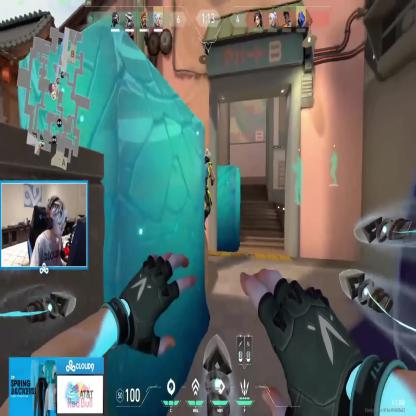enemy: (196, 145, 215, 238)
enemy_head: (205, 147, 211, 162)
